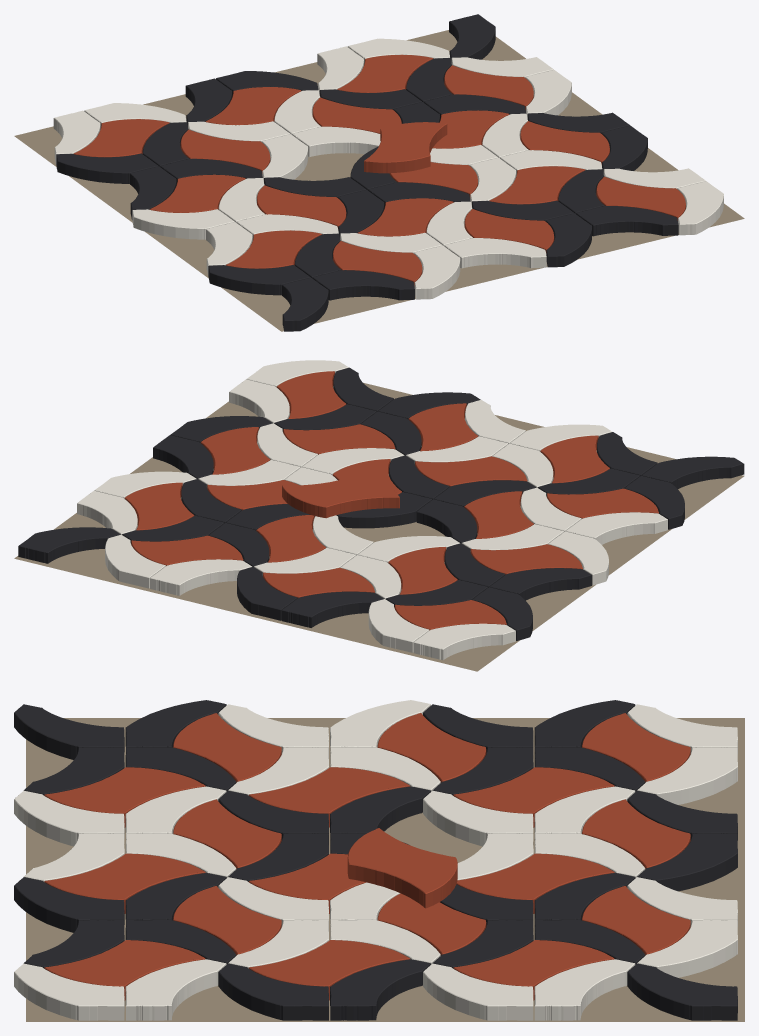
Rendered from terilgan.glb.
3 renders of one model, top to bottom at view 1: azimuth 30°, elevation 25°; view 2: azimuth 150°, elevation 25°; view 3: azimuth 270°, elevation 25°, orthographic. The views are drawn at different scales.
Parts seen in each view (by area): view 1: qum, t.031, t.003, t.043, t.023, t.025, t.017, t.005, t.045, t.001, t.007, t.024 (+56 smaller); view 2: qum, t.031, t.018, t.038, t.066, t.058, t.025, t.056, t.017, t.057, t.005, t.011 (+56 smaller); view 3: qum, t.031, t.061, t.065, t.066, t.063, t.016, t.004, t.024, t.044, t.056, t.050 (+56 smaller).
Boxes of the visible parts, x1,y1,x2,y2 form: qum: (14, 30, 744, 331); t.031: (364, 122, 447, 173); t.003: (312, 270, 414, 300); t.043: (576, 205, 678, 236); t.023: (444, 238, 546, 268); t.025: (358, 198, 453, 236); t.017: (74, 119, 169, 157); t.005: (226, 230, 321, 268); t.045: (489, 166, 585, 204); t.001: (208, 265, 310, 295); t.007: (132, 209, 234, 239); t.024: (464, 209, 554, 252); qum: (14, 382, 744, 671); t.031: (282, 475, 399, 518); t.018: (413, 623, 515, 660); t.038: (281, 591, 383, 627); t.066: (18, 527, 120, 563); t.058: (150, 559, 252, 595); t.025: (415, 456, 527, 486); t.056: (124, 482, 194, 530); t.017: (394, 600, 506, 630); t.057: (131, 535, 243, 565); t.005: (547, 488, 658, 518); t.011: (470, 544, 582, 574); qum: (26, 718, 744, 1021); t.031: (347, 828, 457, 908); t.061: (14, 963, 124, 1020); t.065: (423, 963, 533, 1020); t.066: (627, 963, 737, 1020); t.063: (218, 963, 328, 1020); t.016: (453, 767, 614, 827); t.004: (44, 767, 205, 827); t.024: (44, 853, 205, 913); t.044: (44, 940, 205, 1000); t.056: (453, 940, 614, 1000); t.050: (248, 940, 409, 1000).
Size of the model in its own units: 1.68 by 0.078 by 1.69.
